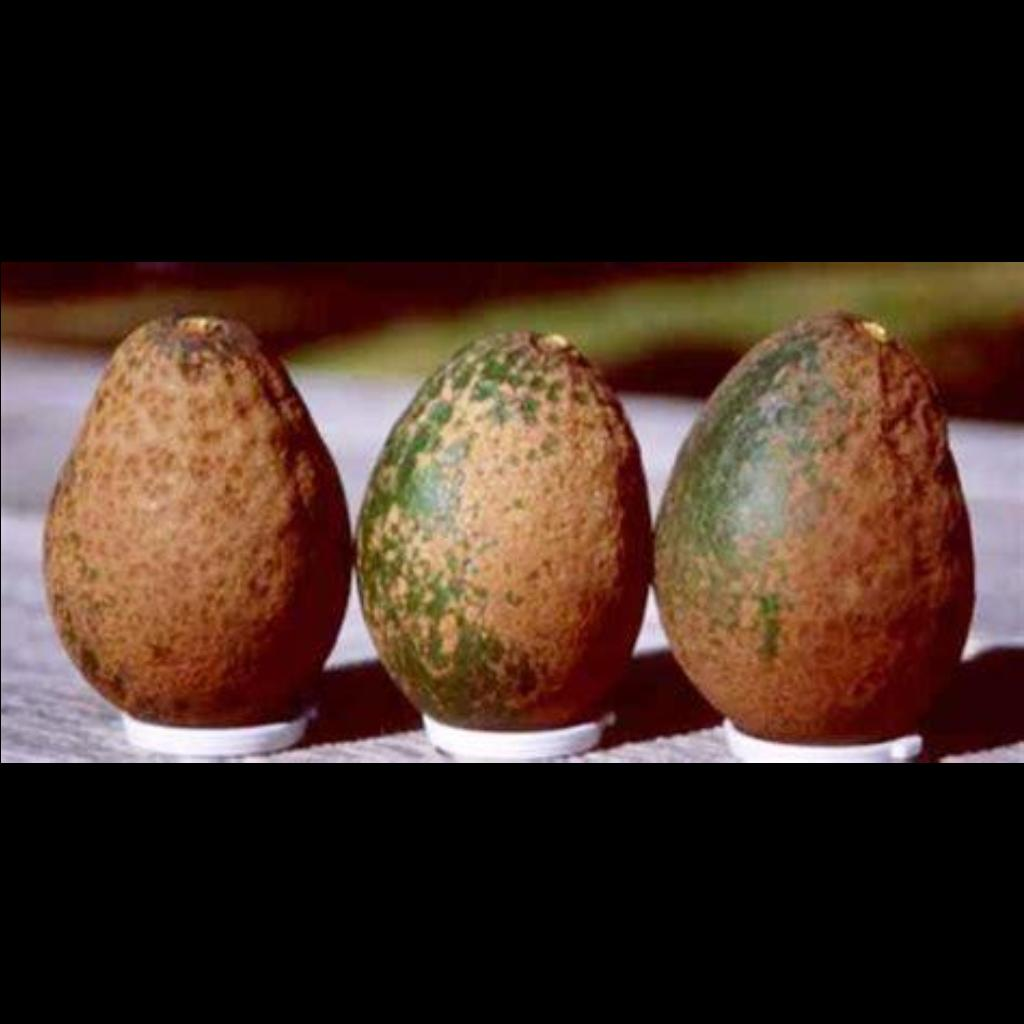cercospora_spot: (350, 346, 626, 684)
